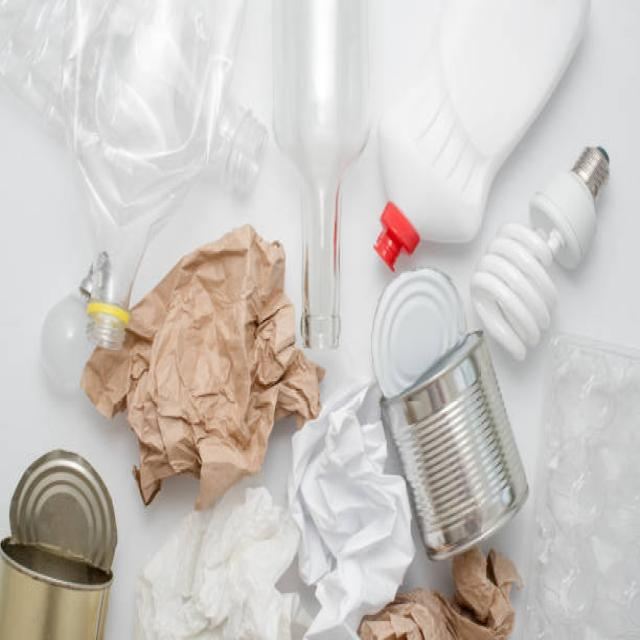metal: (371, 309, 526, 547), (1, 434, 125, 640)
paper: (161, 273, 303, 621)
plastic: (3, 8, 272, 221), (373, 2, 474, 265)
